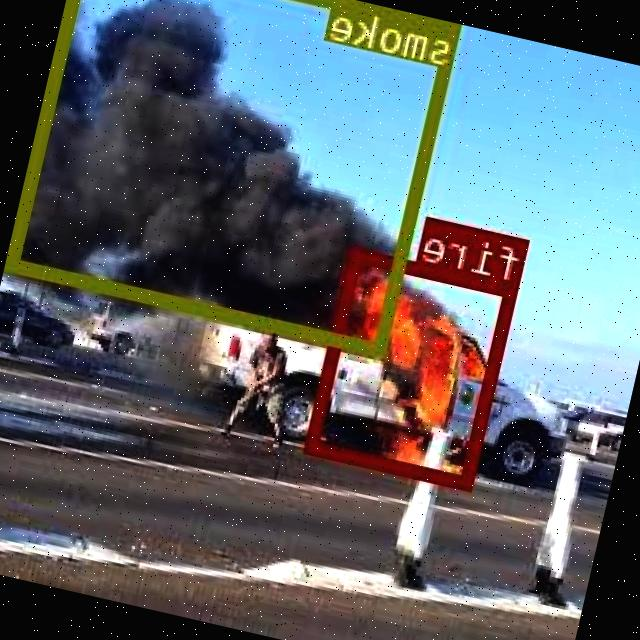fire: (308, 247, 520, 488)
smoke: (7, 0, 465, 356)
